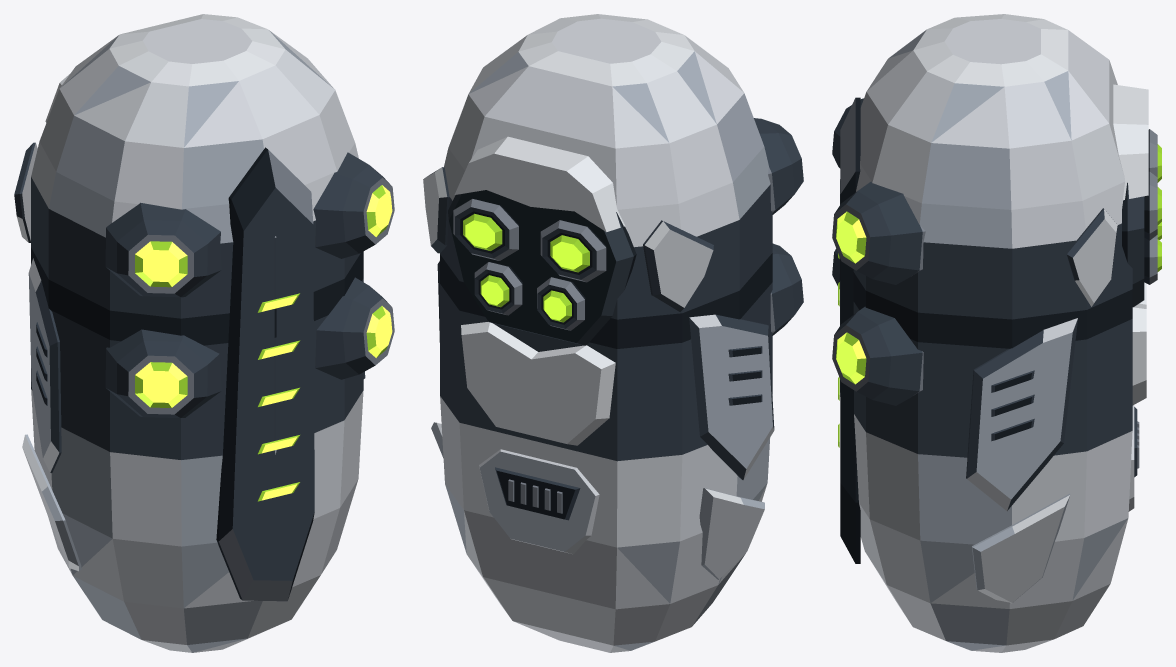
File: player-capsule.glb
3 views of the same model, side by side, from view 1: azimuth 30°, elevation 25°; view 2: azimuth 150°, elevation 25°; view 3: azimuth 270°, elevation 25° (orthographic).
Parts seen in each view (by area): view 1: Capsule pressure hull, Dorsal spine, Actuator saddle -1.2, Actuator saddle -1.1, Actuator saddle +1.2, Actuator saddle +1.1, Heat sink -1, Socket light -1.2, Socket light -1.1, Lower keel -1, Temple -1, Socket light +1.2 (+1 smaller); view 2: Capsule pressure hull, Breastplate, Optic mask, Heat sink -1, Armored brow, Chin shield, Temple -1, Lower keel -1, Green eye 1.-1, Green eye 1.+1, Actuator saddle -1.2, Intake (+4 smaller); view 3: Capsule pressure hull, Heat sink +1, Actuator saddle +1.2, Lower keel +1, Dorsal spine, Actuator saddle +1.1, Armored brow, Temple +1, Optic mask, Breastplate, Socket light +1.1, Socket light +1.2 (+3 smaller).
Boxes of the visible parts, x1,y1,x2,y2 form: Capsule pressure hull: (31, 14, 363, 652); Dorsal spine: (216, 147, 314, 601); Actuator saddle -1.2: (105, 202, 221, 297); Actuator saddle -1.1: (105, 329, 221, 417); Actuator saddle +1.2: (313, 152, 394, 258); Actuator saddle +1.1: (315, 277, 394, 379); Heat sink -1: (28, 258, 61, 472); Socket light -1.2: (135, 241, 187, 287); Socket light -1.1: (135, 362, 187, 407); Lower keel -1: (22, 434, 81, 571); Temple -1: (14, 142, 37, 242); Socket light +1.2: (366, 185, 392, 237); Capsule pressure hull: (440, 14, 772, 652); Breastplate: (461, 322, 615, 445); Optic mask: (448, 190, 636, 345); Heat sink -1: (689, 314, 774, 480); Armored brow: (454, 136, 625, 232); Chin shield: (479, 449, 599, 554); Temple -1: (643, 220, 713, 311); Lower keel -1: (699, 488, 764, 579); Green eye 1.-1: (540, 220, 606, 282); Green eye 1.+1: (453, 199, 518, 260); Actuator saddle -1.2: (754, 118, 803, 214); Intake: (495, 467, 580, 520); Capsule pressure hull: (840, 14, 1132, 652); Heat sink +1: (966, 318, 1077, 510); Actuator saddle +1.2: (832, 181, 925, 284); Lower keel +1: (972, 493, 1070, 603); Dorsal spine: (840, 97, 860, 563); Actuator saddle +1.1: (832, 306, 923, 405); Armored brow: (1113, 84, 1148, 200); Temple +1: (1066, 208, 1117, 306); Optic mask: (1122, 182, 1144, 307); Breastplate: (1132, 282, 1146, 405); Socket light +1.1: (836, 332, 866, 384); Socket light +1.2: (836, 211, 866, 263).
Bounding box in the file's own units: 1.11 × 2 × 1.01.
